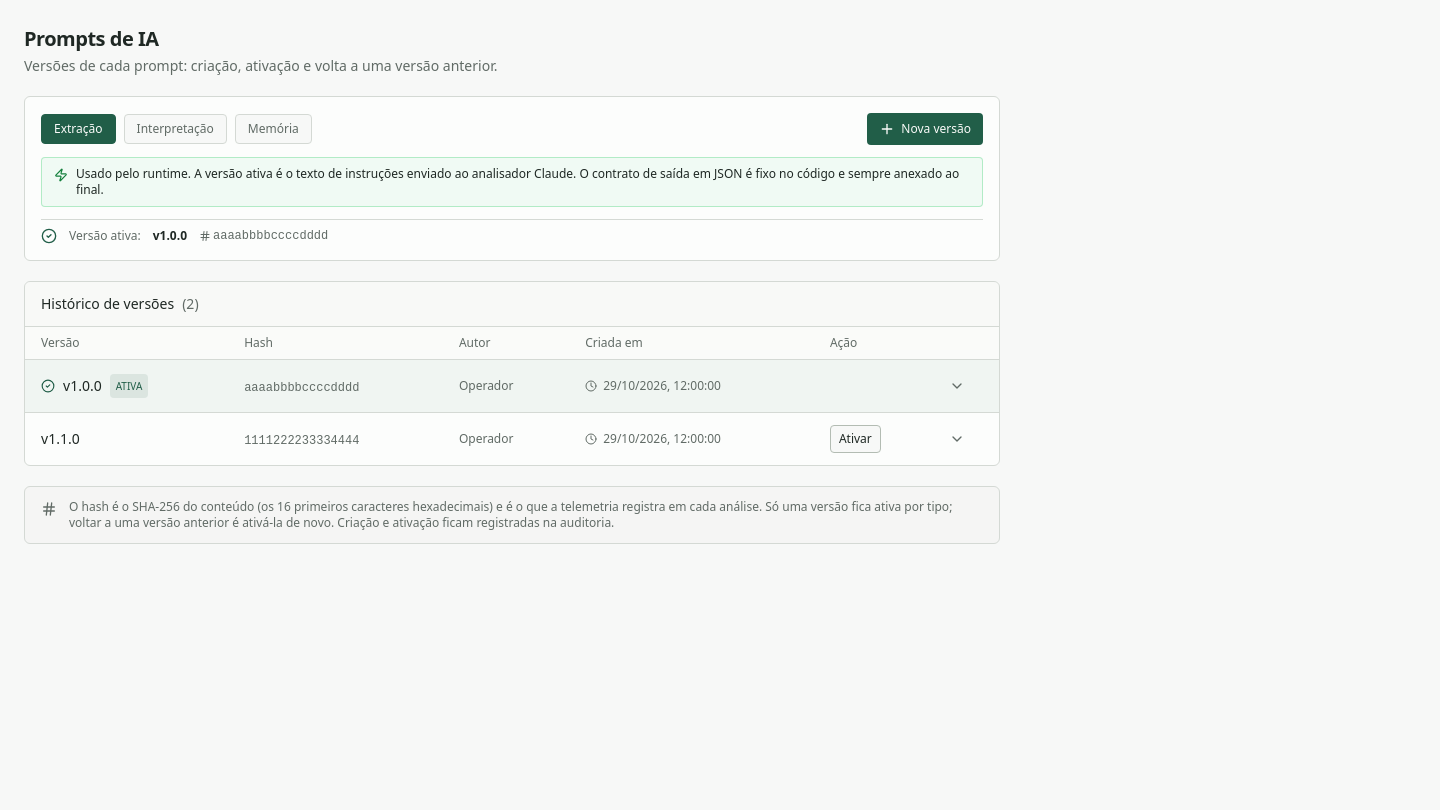
Test: AiPromptsPage › activates only after confirmation, saying the runtime switches immediately
The width and height of the screenshot is (1440, 810).
What coordinates should you click on to do the following:
click the button with aria-label "Ativar versão 1.1.0"
I would click on:
 (855, 439)
Its box is [830,425,881,453].
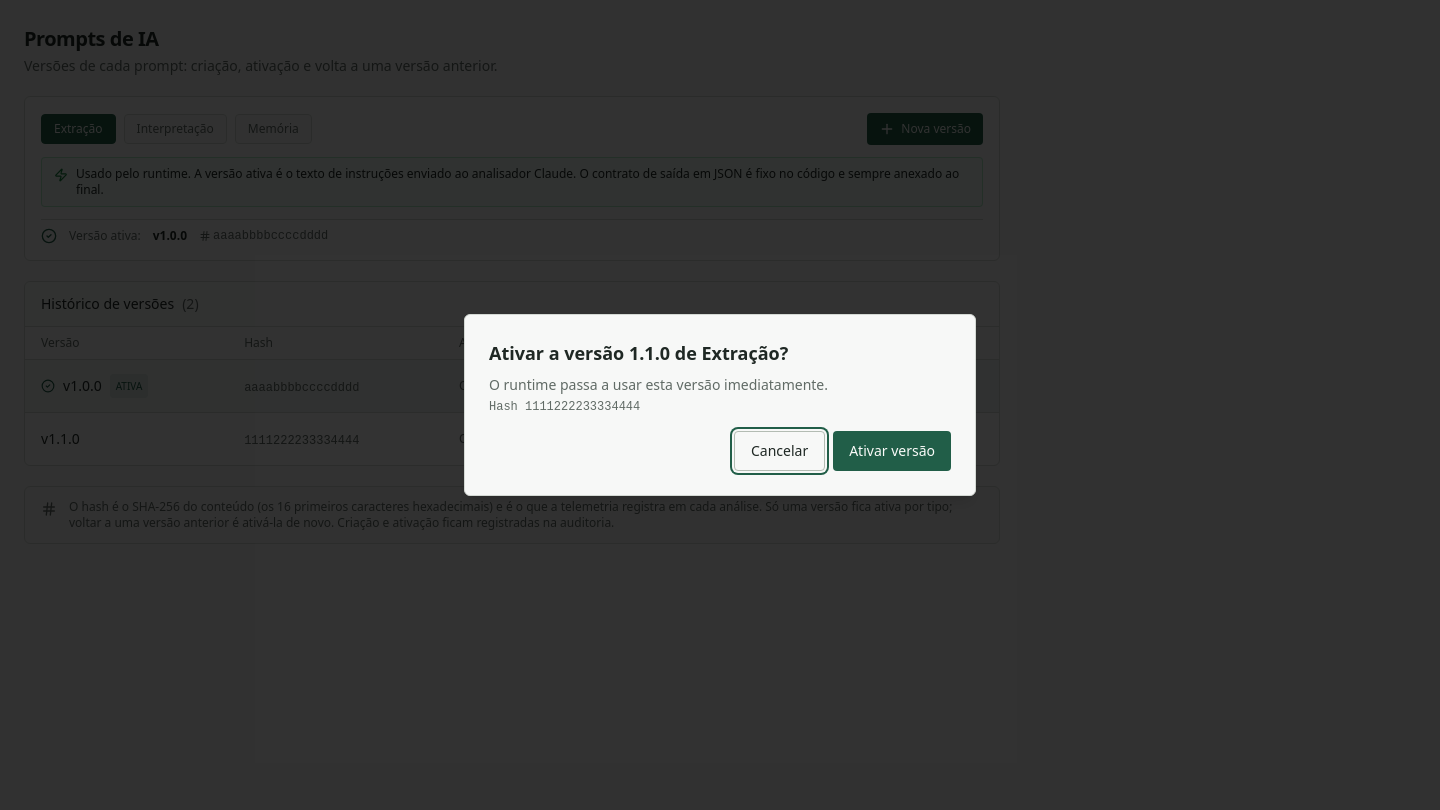
Now the dialog shows "O runtime passa a usar esta versão imediatamente.", box [489,375,828,394]
Now the dialog shows "1111222233334444", box [525,400,640,414]
What coordinates should you click on to do the following:
click the button "Ativar versão"
I would click on:
 (892, 451)
Its box is [833,431,951,471].
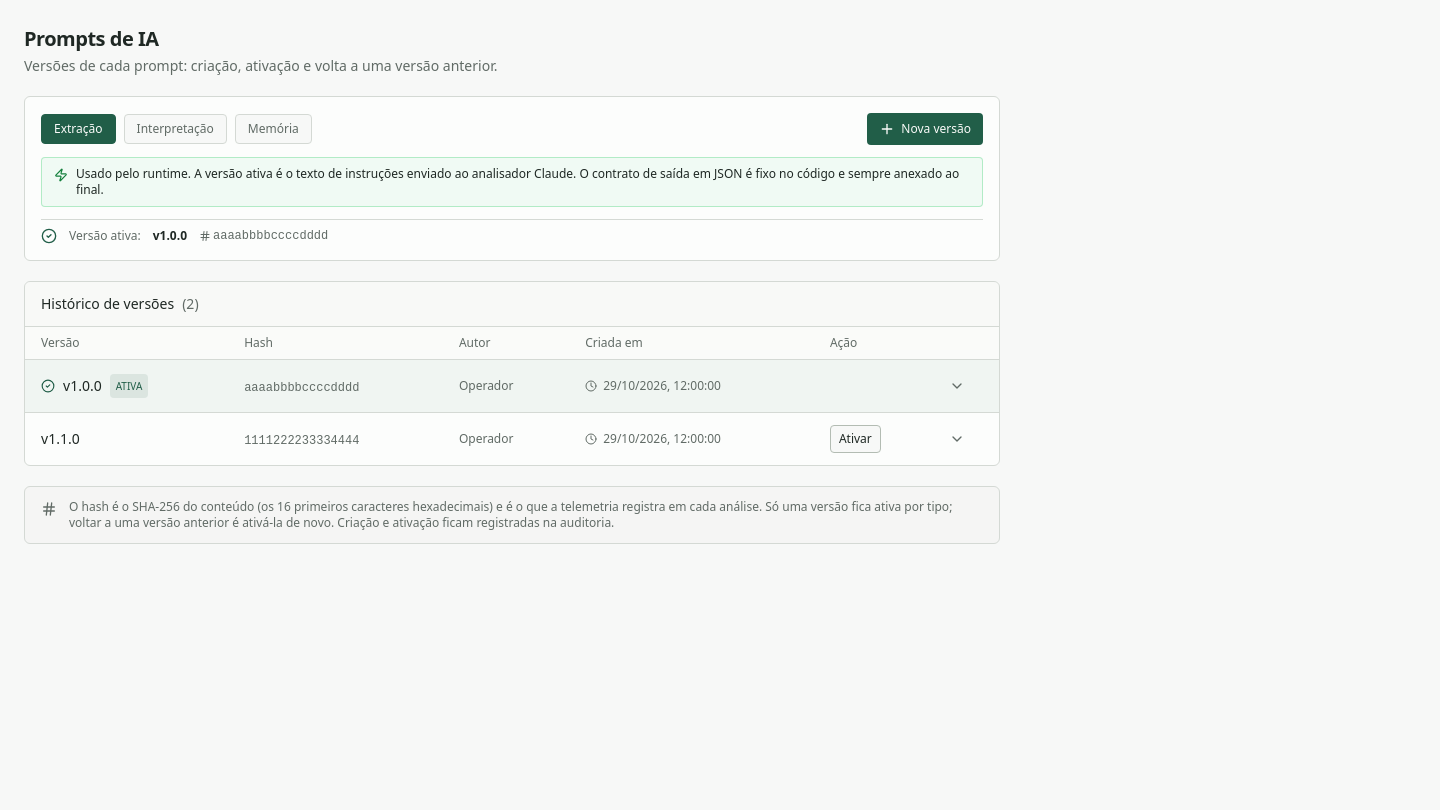
Now the dialog is gone
